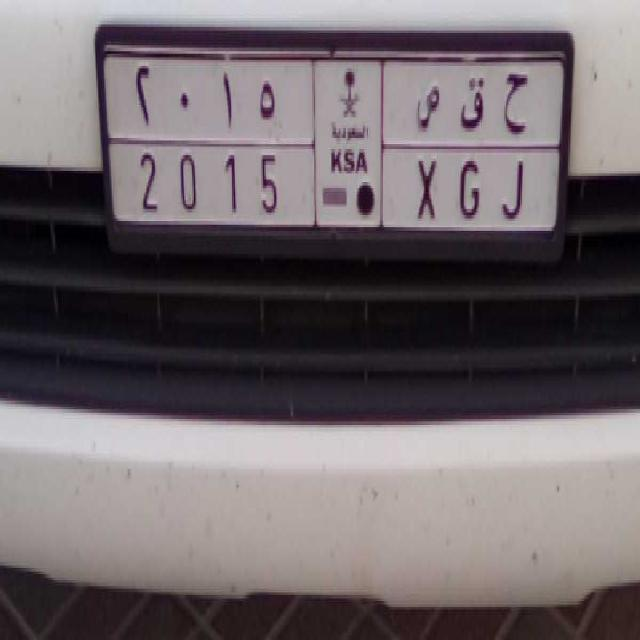license_plate: (125, 139, 546, 234)
